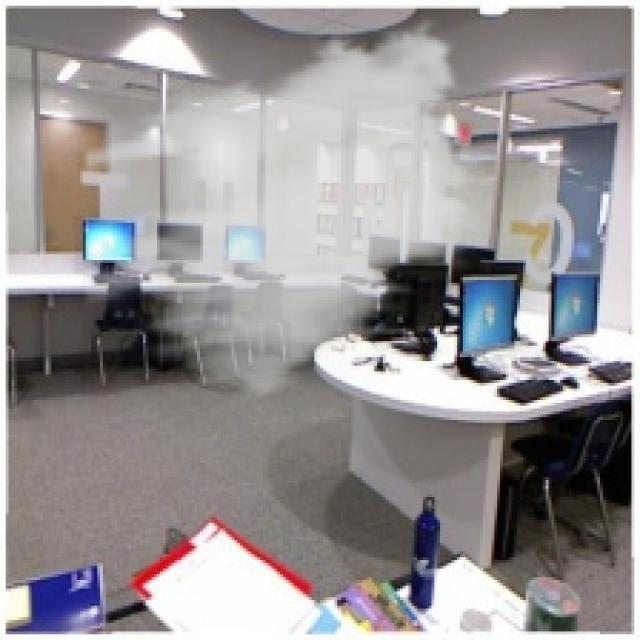Smoke: (82, 9, 488, 408)
